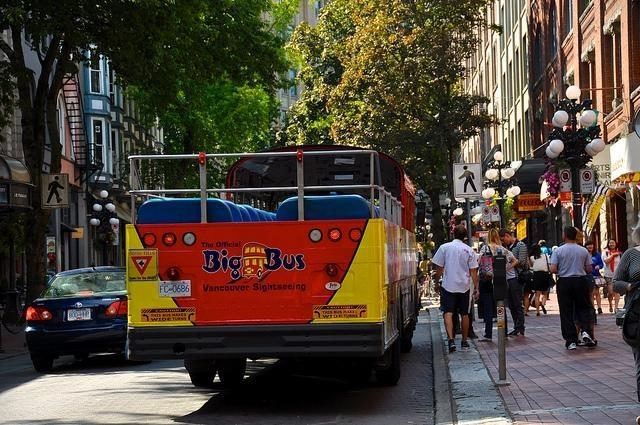bus: (124, 147, 427, 386)
car: (24, 268, 130, 374)
